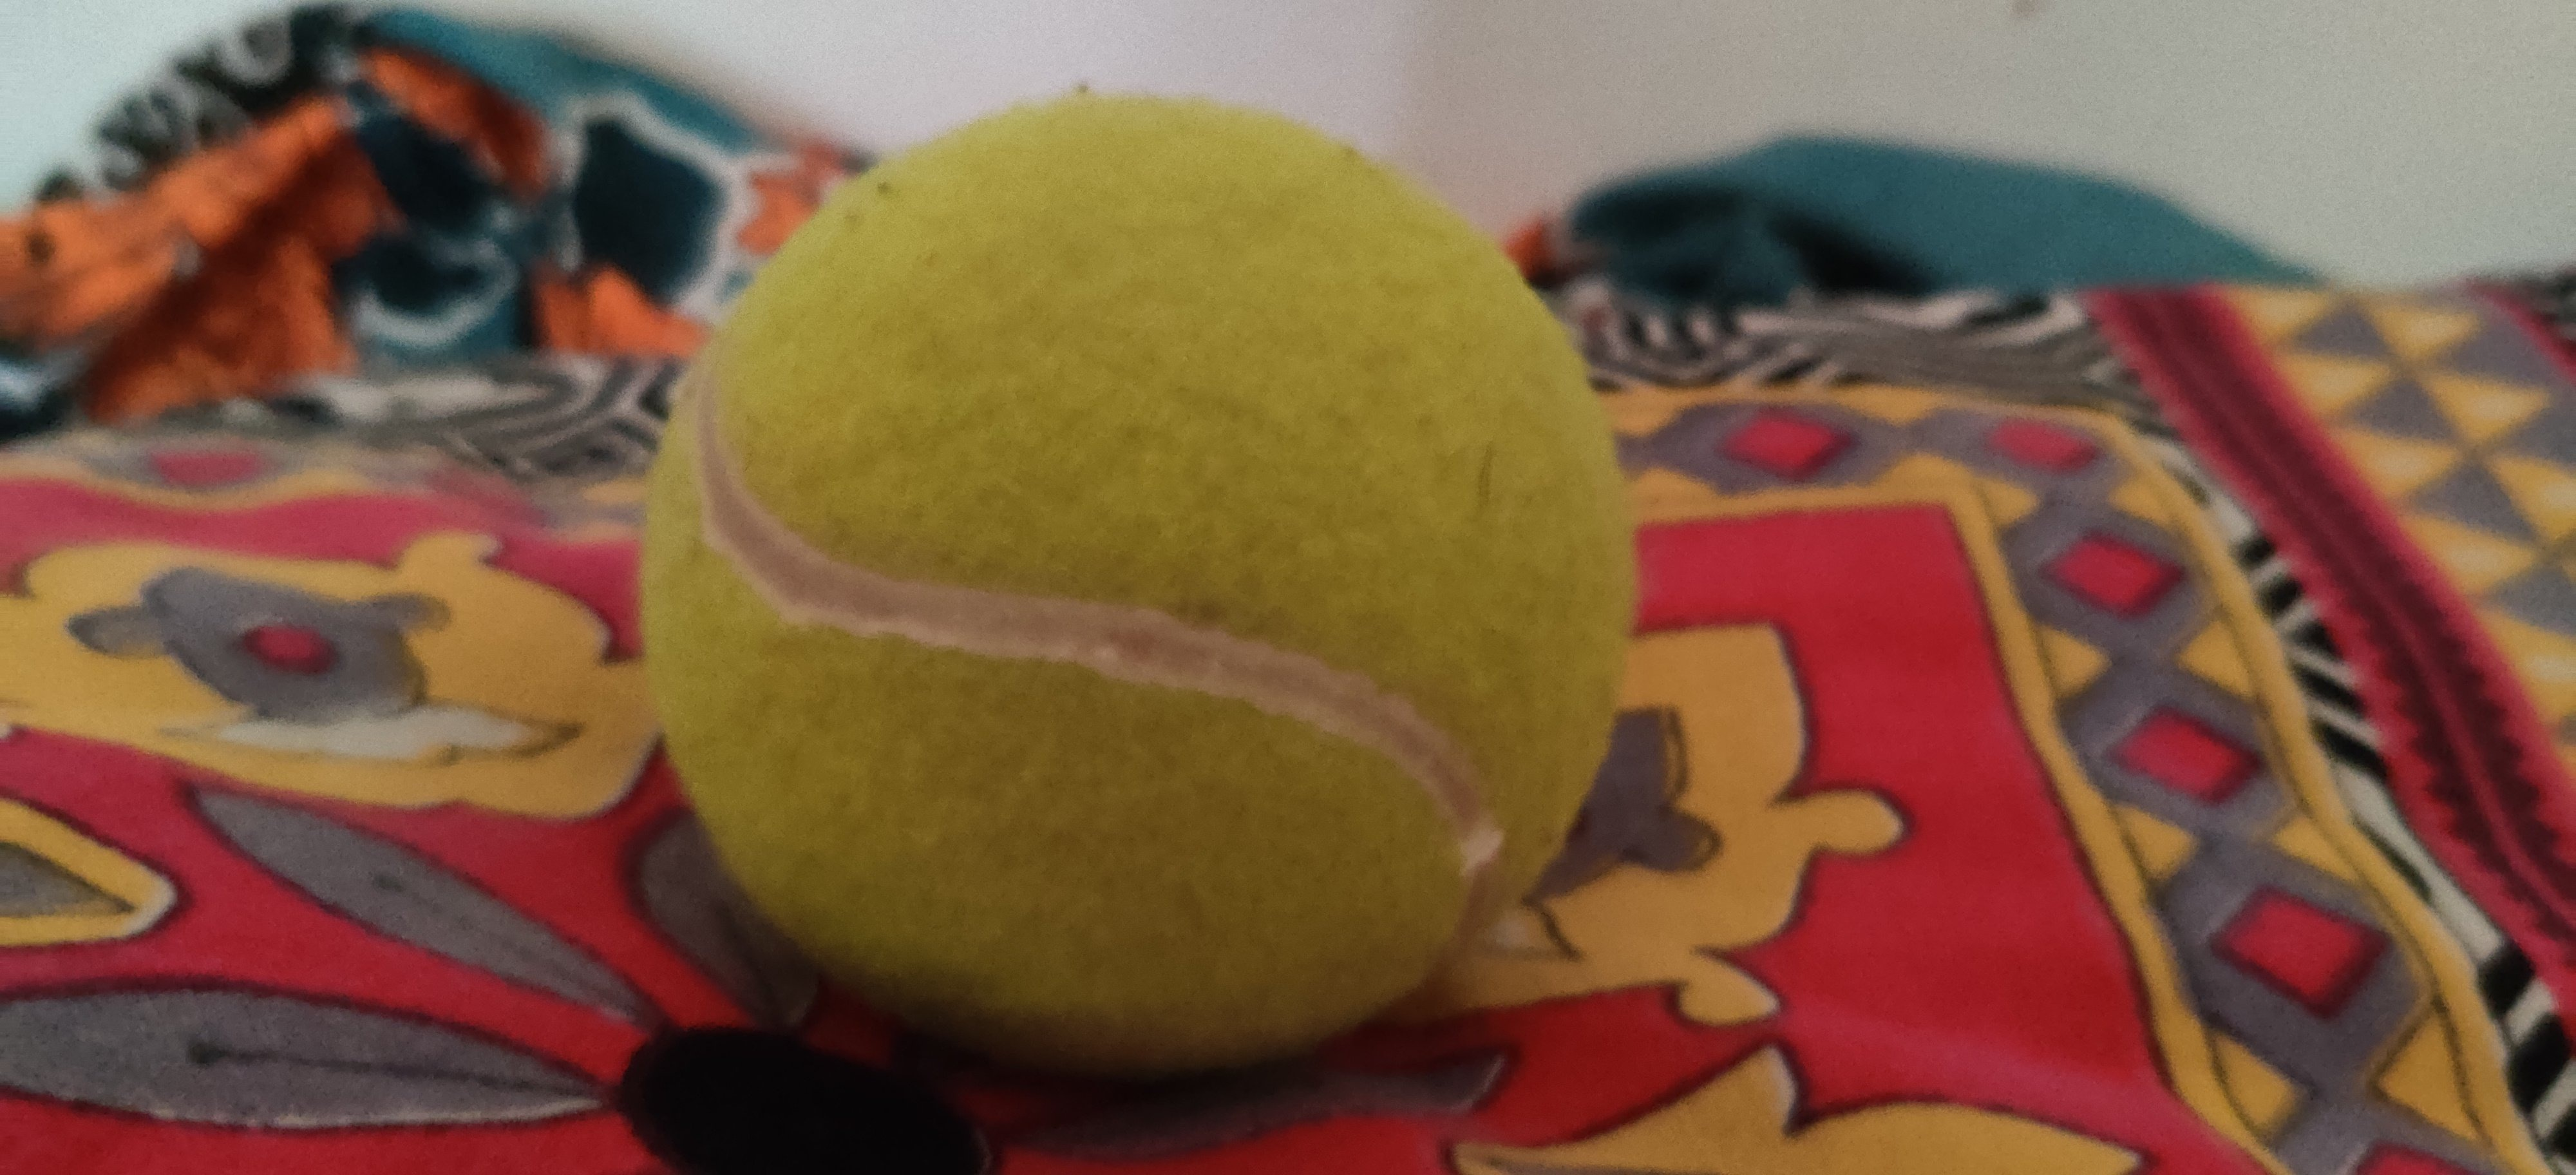Tennis-Ball: (639, 95, 1638, 1071)
